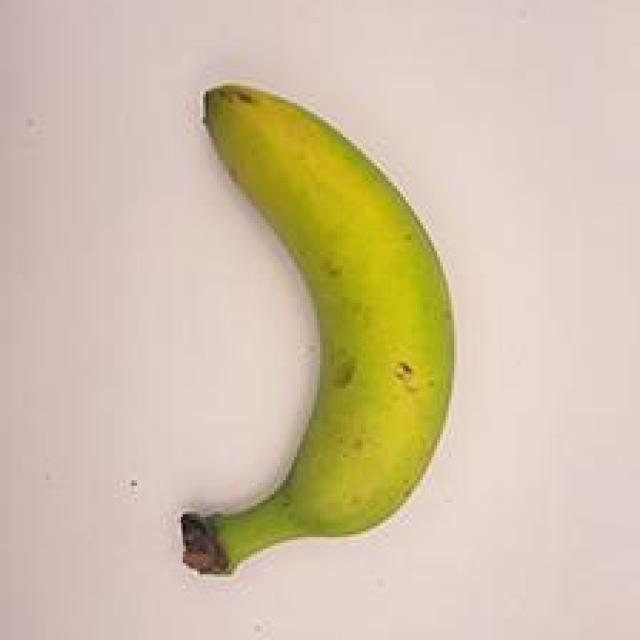Unripe: (144, 60, 456, 574)
